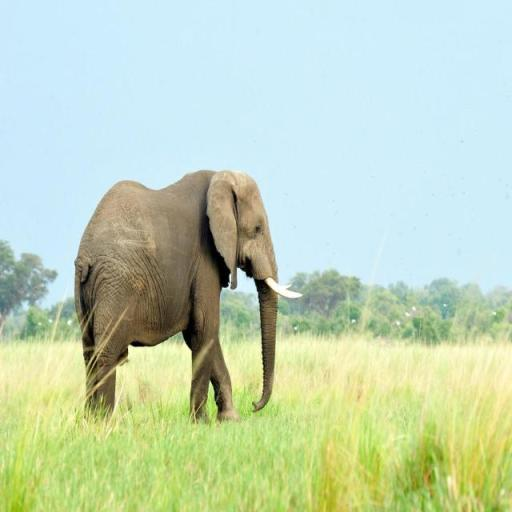Elephant: (73, 168, 303, 426)
